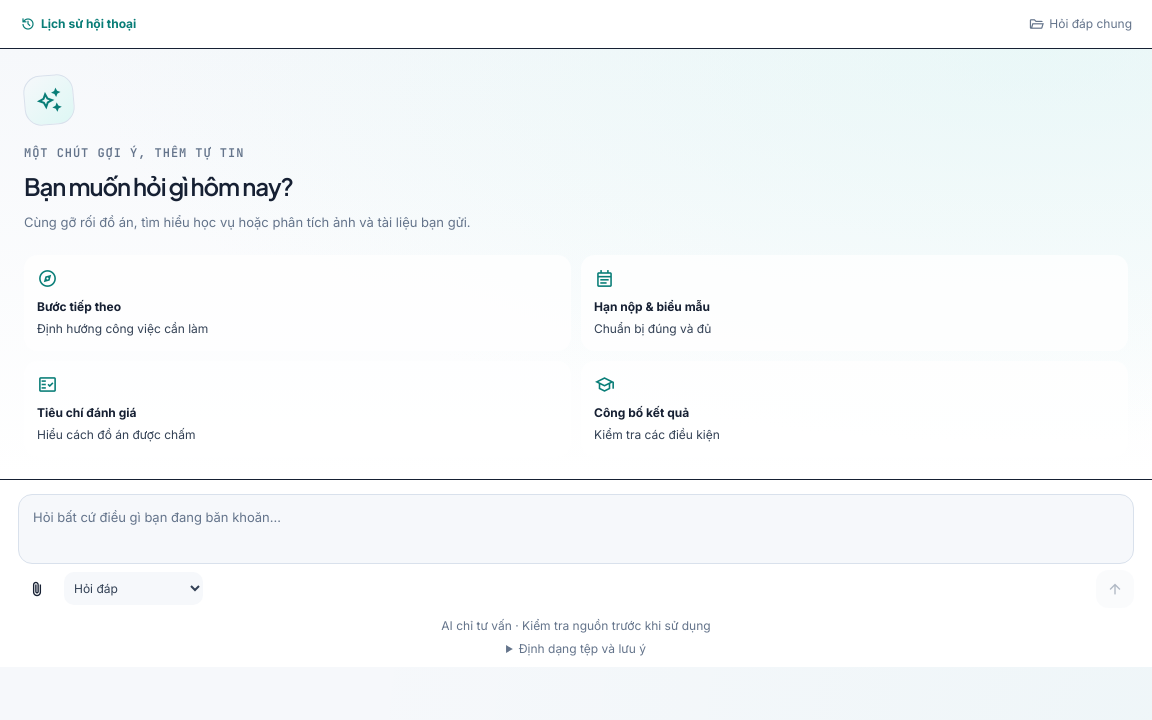
Test: keeps successive question and answer bubbles and clears them on project change
This screenshot has width=1152, height=720.
Type "First question" into the text box named "Câu hỏi học vụ".
click(576, 529); type("First question")  # box [18,494,1134,564]
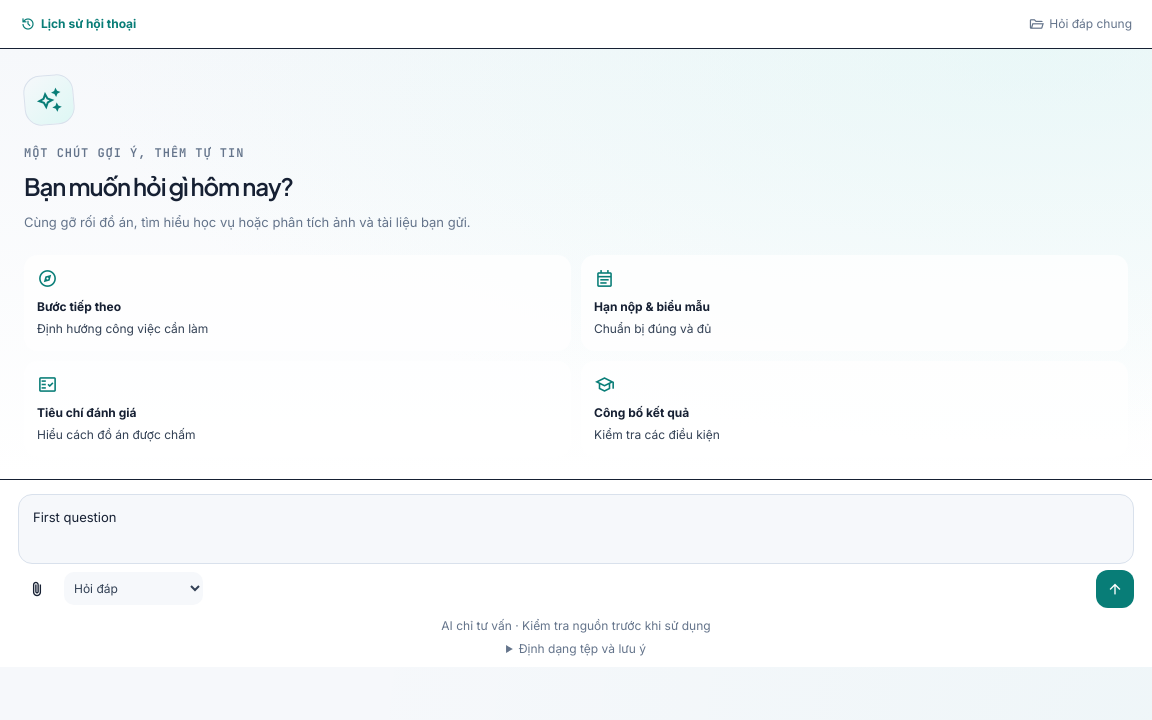
Press Enter in the text box named "Câu hỏi học vụ", box [18,494,1134,564]
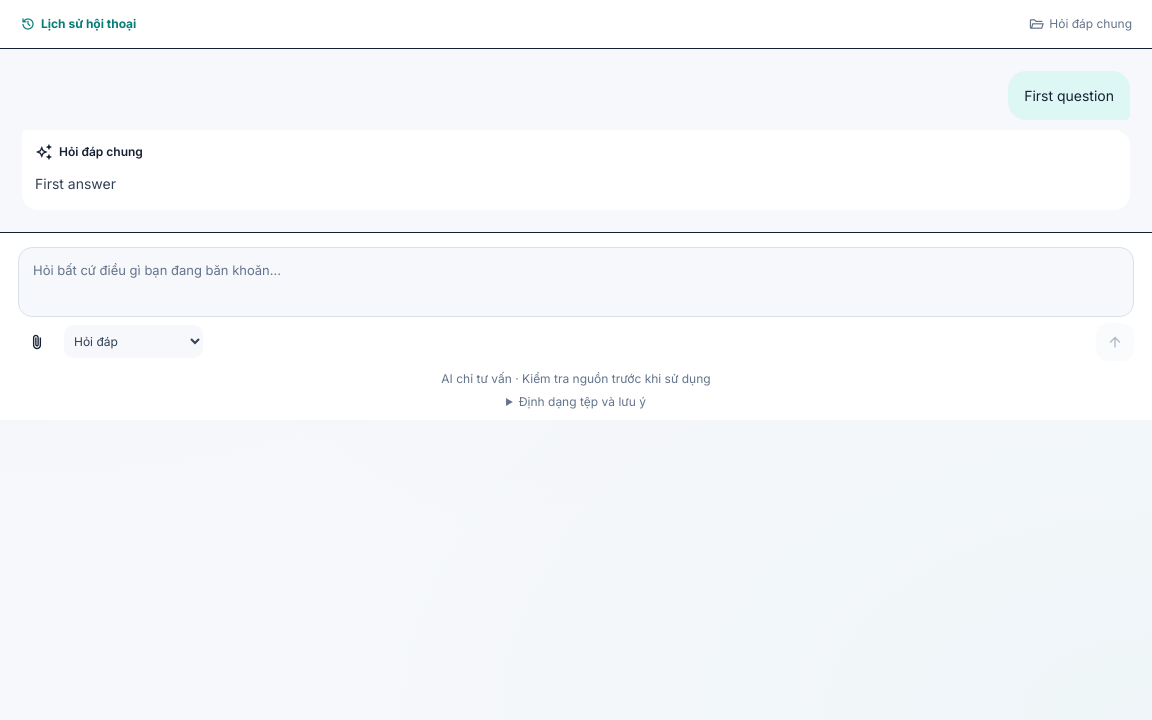
Expected: the text "First answer" is shown, [35,175,116,192]
Type "Second question" into the text box named "Câu hỏi học vụ".
click(576, 282); type("Second question")  # box [18,247,1134,317]
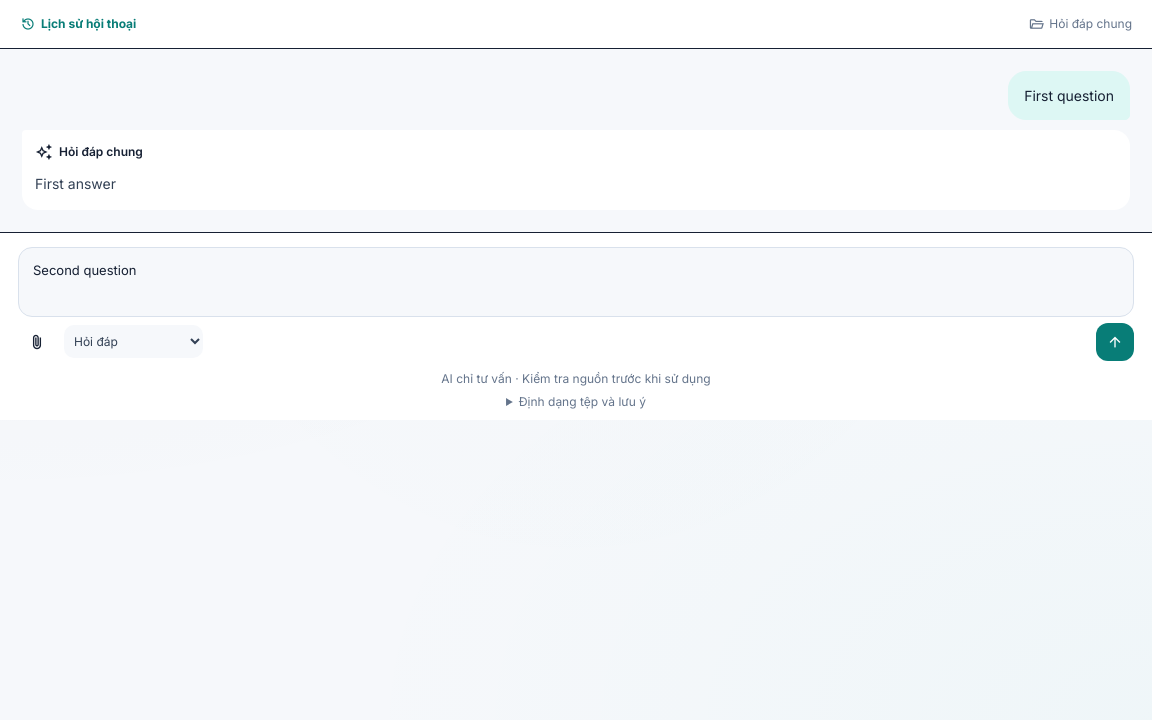
Click the button named "Gửi".
click(1115, 342)  # box [1096,323,1134,361]
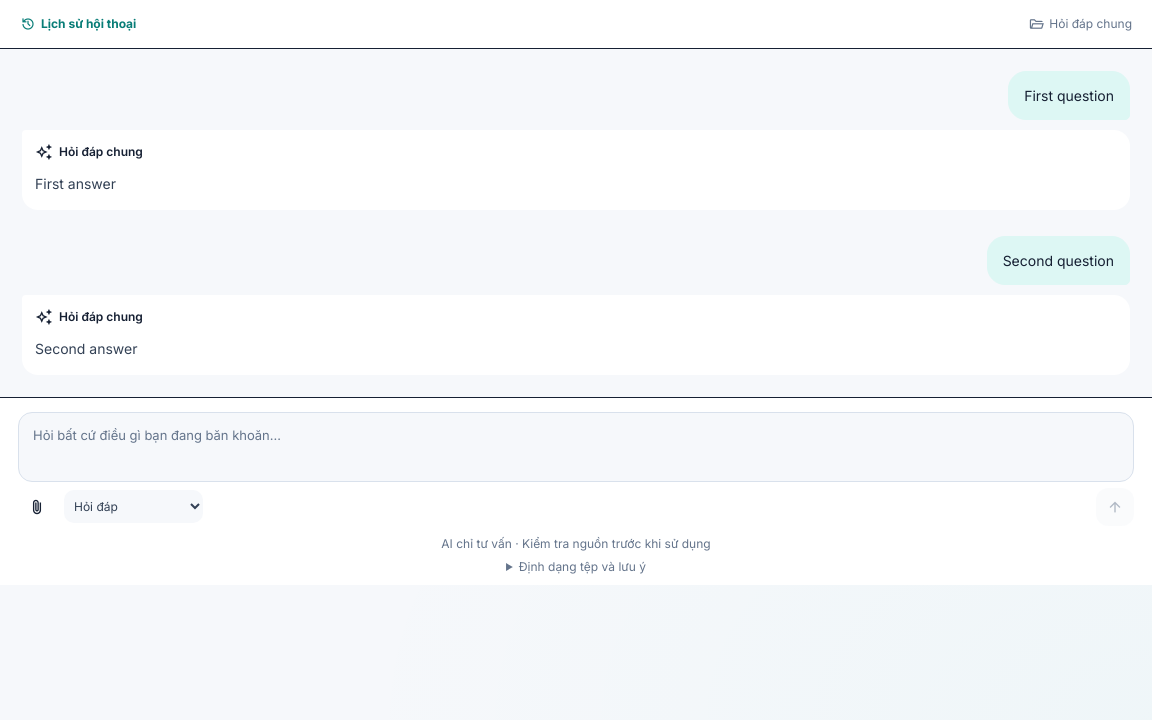
Expected: the text "First answer" is shown, [35,175,116,192]
Expected: the text "Second answer" is shown, [35,340,138,357]
